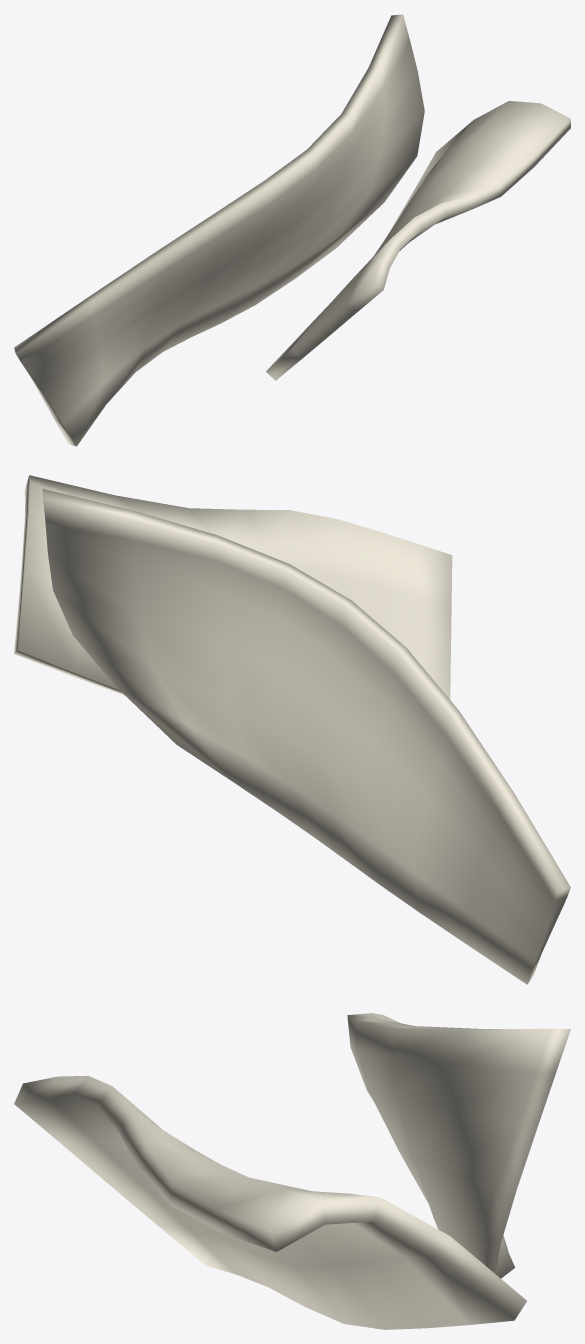
3 renders of one model, top to bottom at view 1: azimuth 30°, elevation 25°; view 2: azimuth 150°, elevation 25°; view 3: azimuth 270°, elevation 25°, orthographic. The views are drawn at different scales.
Visible parts, largest first — view 1: ZA_e3c799a7a46c9a21; view 2: ZA_e3c799a7a46c9a21; view 3: ZA_e3c799a7a46c9a21.
Part boxes in pixels (x1=…): ZA_e3c799a7a46c9a21: x1=14, y1=14, x2=570, y2=446; ZA_e3c799a7a46c9a21: x1=14, y1=475, x2=570, y2=984; ZA_e3c799a7a46c9a21: x1=14, y1=1013, x2=570, y2=1329.
Bounding box in the file's own units: 0.021 × 0.0131 × 0.0114.
